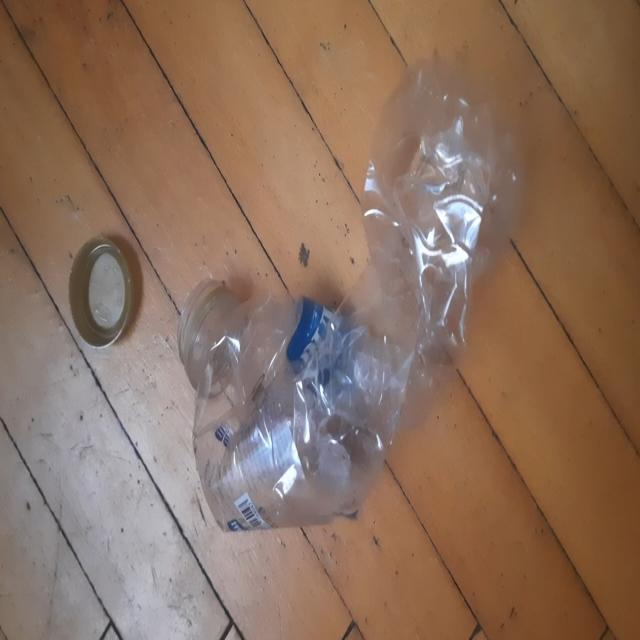Plastic: (187, 58, 514, 533)
